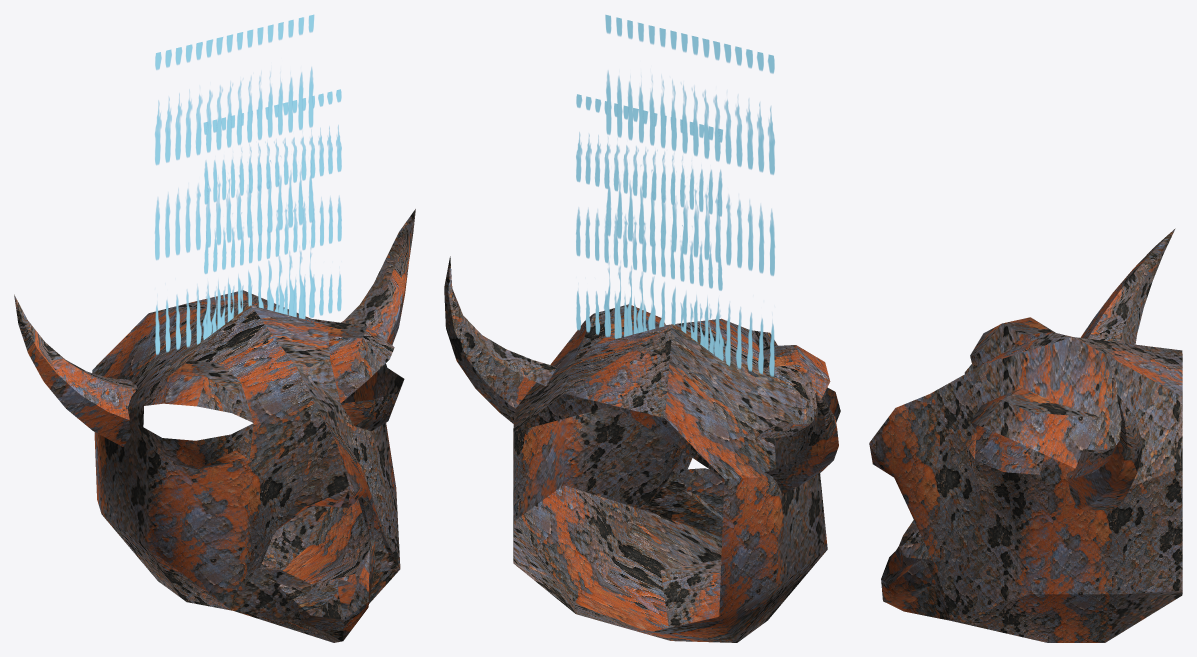
The model's file is mm9_deco_bluesconce.glb.
3 renders of one model, left to right at view 1: azimuth 30°, elevation 25°; view 2: azimuth 150°, elevation 25°; view 3: azimuth 270°, elevation 25°, orthographic. The views are drawn at different scales.
Parts seen in each view (by area): view 1: Bluesconce; view 2: Bluesconce; view 3: Bluesconce.
Boxes of the visible parts, left/top/right/bottom form: Bluesconce: left=14, top=14, right=415, bottom=642; Bluesconce: left=444, top=14, right=840, bottom=642; Bluesconce: left=869, top=228, right=1182, bottom=642.
Size of the model in its own units: 0.6925 by 1 by 0.4977.
Materials: 2 (2 with a texture image).
